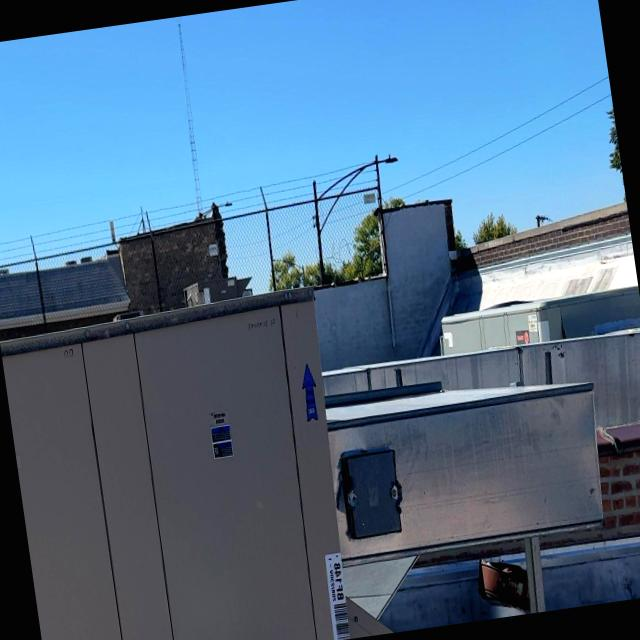RTU: (0, 249, 367, 640)
